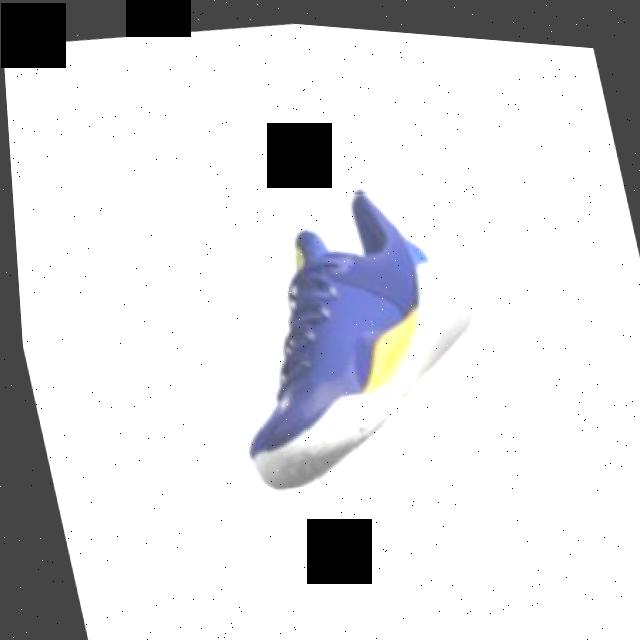shoe: (184, 158, 511, 504)
